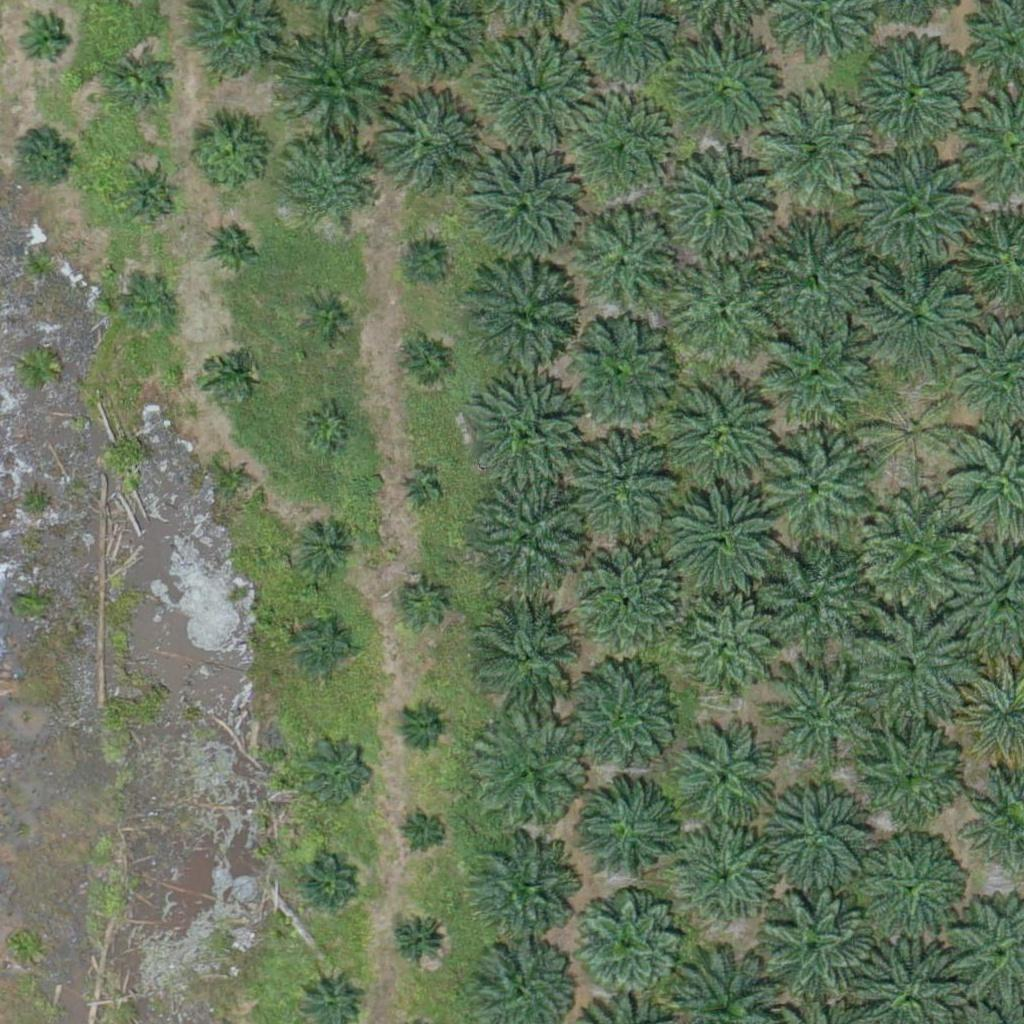Kelapa_Sawit: (667, 31, 792, 157), (652, 139, 777, 265), (481, 33, 594, 147), (570, 887, 683, 1001), (474, 719, 587, 833), (857, 34, 970, 147), (367, 89, 480, 202), (471, 378, 584, 491), (472, 480, 585, 593), (472, 595, 585, 708), (559, 89, 672, 202), (668, 250, 781, 363), (755, 543, 868, 656), (763, 435, 876, 548), (759, 318, 872, 431), (753, 220, 866, 333), (859, 496, 972, 609), (855, 614, 968, 727), (851, 719, 964, 832), (564, 664, 677, 777), (281, 33, 393, 147), (759, 89, 871, 203), (859, 149, 971, 263), (467, 838, 579, 952), (469, 155, 581, 268), (469, 267, 581, 380), (566, 316, 678, 429), (573, 201, 685, 314), (671, 374, 783, 487), (667, 481, 779, 594), (861, 261, 973, 374), (763, 659, 875, 772), (759, 891, 871, 1004), (862, 383, 962, 484), (582, 547, 682, 648), (578, 433, 678, 534), (679, 601, 779, 702), (861, 839, 961, 940), (768, 784, 868, 885), (676, 733, 776, 834), (677, 826, 777, 926), (581, 780, 681, 880), (183, 113, 270, 201), (283, 140, 370, 228), (301, 732, 376, 807), (118, 165, 181, 228), (13, 124, 76, 187), (297, 859, 360, 922), (387, 909, 450, 972), (112, 55, 174, 118), (297, 519, 359, 582), (296, 616, 358, 679), (206, 217, 268, 280), (19, 15, 69, 66), (399, 576, 449, 627), (395, 700, 445, 751), (125, 284, 175, 334), (201, 348, 251, 398), (303, 404, 353, 454), (304, 295, 354, 345), (399, 808, 449, 858), (401, 236, 451, 286), (402, 339, 452, 389), (218, 462, 256, 500), (401, 471, 439, 509)
